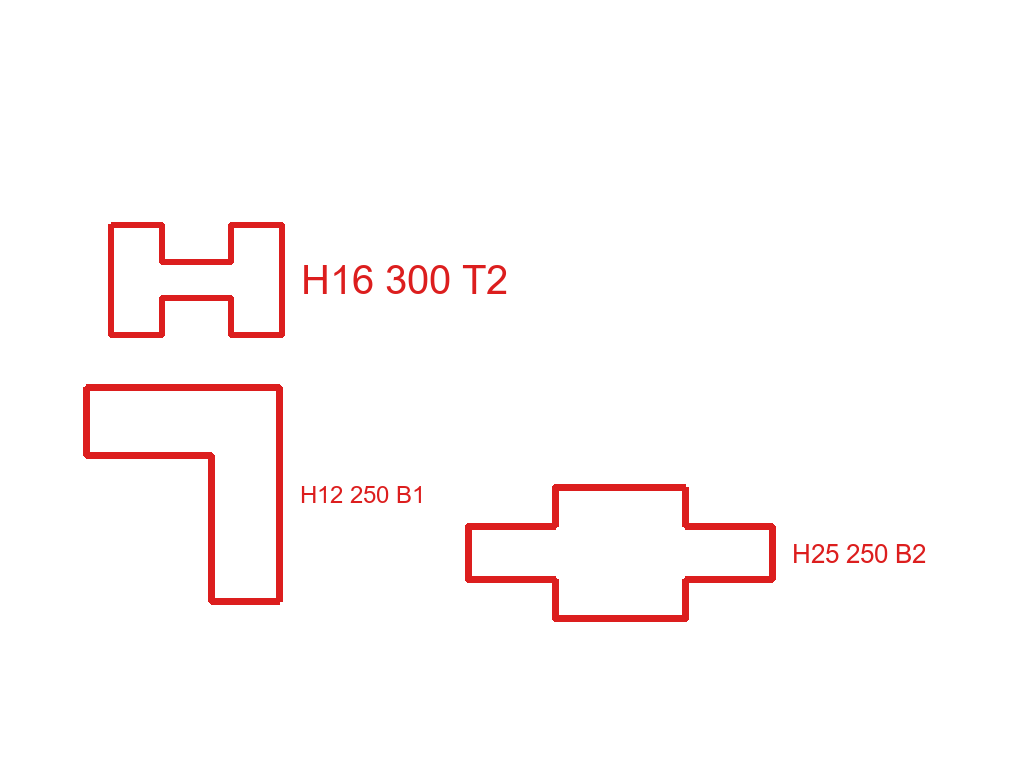shape: (81, 382, 285, 607), (463, 482, 778, 624), (107, 219, 286, 340)
text: (299, 263, 510, 296), (790, 542, 928, 565), (298, 484, 427, 505)
